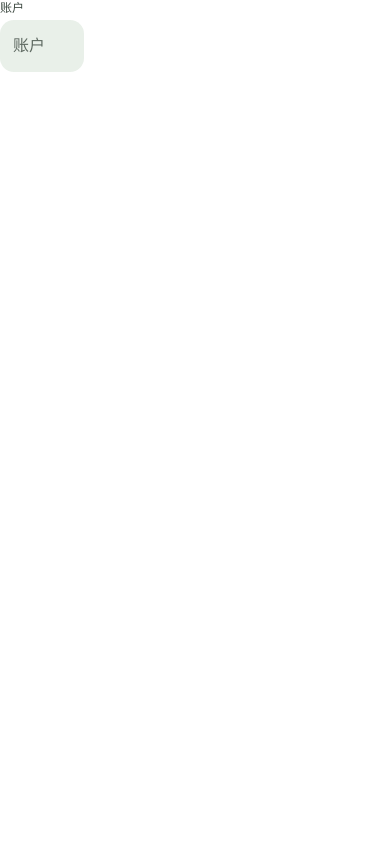
Test: SourcePicker › a ledger with accounts shared in (decision §14.62) › the list carries a 「我的」 and a 「成员共享的」 title, mine first
This screenshot has width=390, height=844.
Click the button with test id "src-trigger" at (42, 46), box [0, 20, 84, 72]
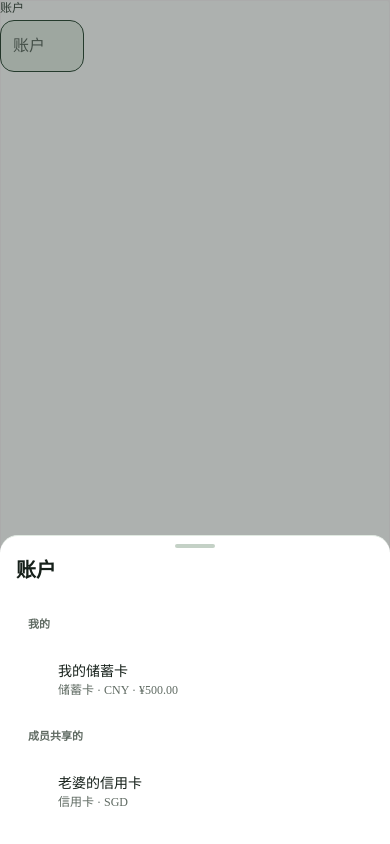
Expected: the menu item with test id "src-option-__group-mine" reads "我的", [28, 618, 50, 630]
Expected: the menu item with test id "src-option-__group-shared" reads "成员共享的", [28, 730, 83, 742]
Expected: the menu item with test id "src-option-__group-mine" is disabled, [28, 618, 50, 630]
